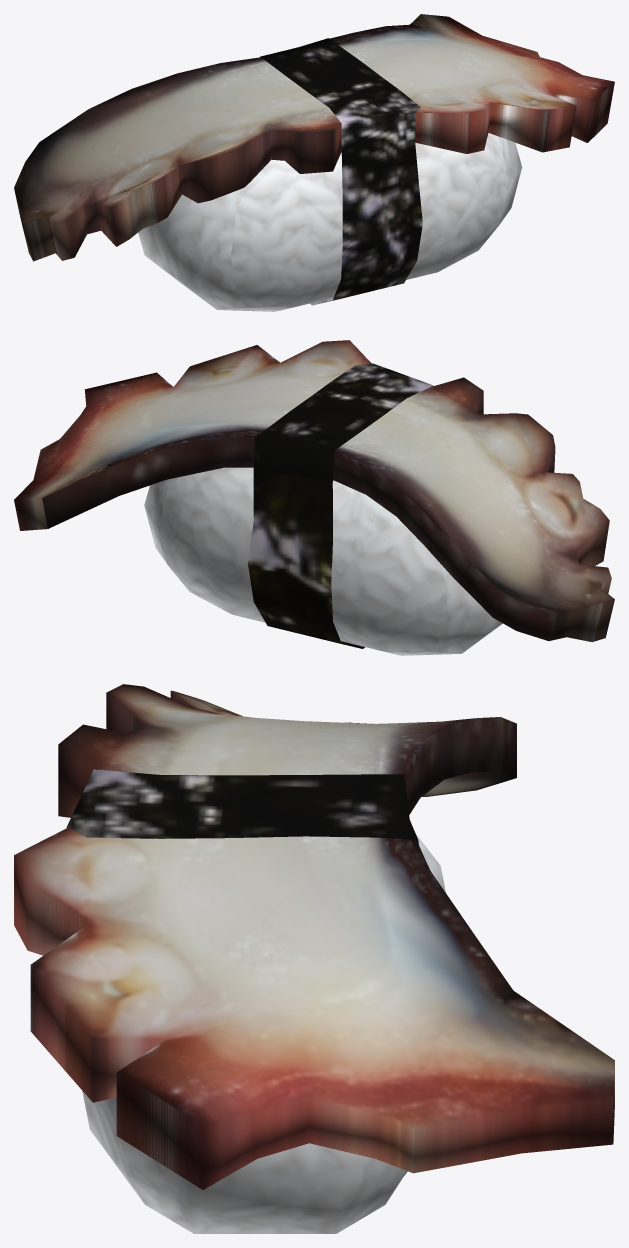
File: octopus_2.fbx
The picture shows the model from 3 angles, top to bottom: view 1: azimuth 30°, elevation 25°; view 2: azimuth 150°, elevation 25°; view 3: azimuth 270°, elevation 25°; orthographic projection. The views are drawn at different scales.
Visible parts, largest first — view 1: octopus_2; view 2: octopus_2; view 3: octopus_2.
Boxes of the visible parts, <box> form: octopus_2: <box>14,14,614,311</box>; octopus_2: <box>14,340,614,655</box>; octopus_2: <box>14,684,614,1233</box>.
Bounding box in the file's own units: 9.26 × 3.31 × 5.
